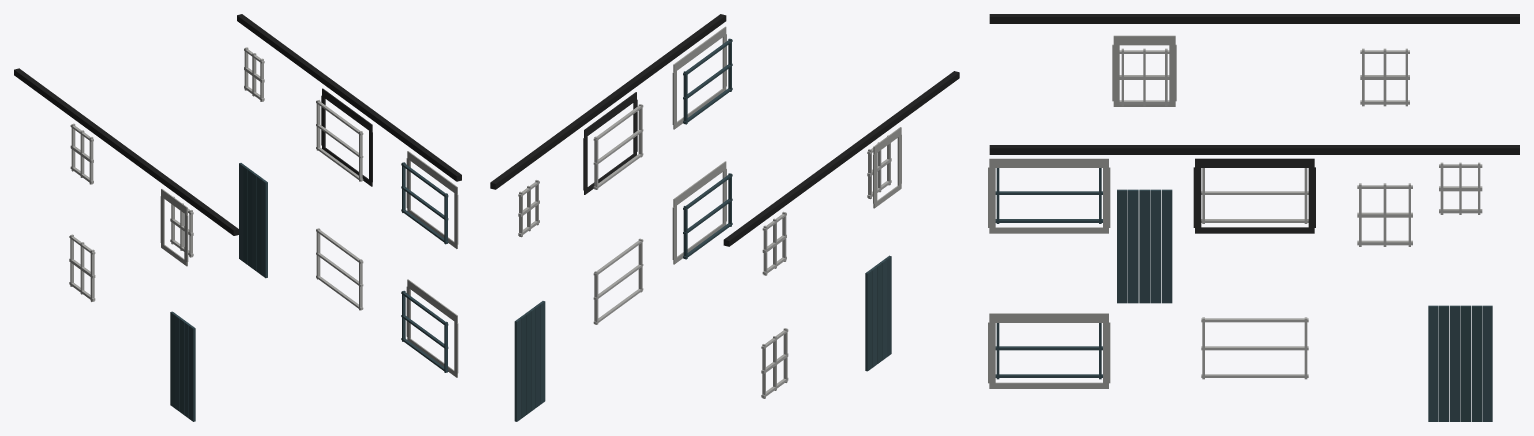
The model's file is SM_Bld_034_Wood.glb.
3 renders of one model, left to right at view 1: azimuth 30°, elevation 25°; view 2: azimuth 150°, elevation 25°; view 3: azimuth 270°, elevation 25°, orthographic. The views are drawn at different scales.
Visible parts, largest first — view 1: SM_Bld_034_Wood; view 2: SM_Bld_034_Wood; view 3: SM_Bld_034_Wood.
Boxes of the visible parts, left/top/right/bottom form: SM_Bld_034_Wood: left=14, top=14, right=461, bottom=421; SM_Bld_034_Wood: left=490, top=14, right=959, bottom=421; SM_Bld_034_Wood: left=988, top=14, right=1519, bottom=421.
Size of the model in its own units: 5.12 by 5 by 8.58.
